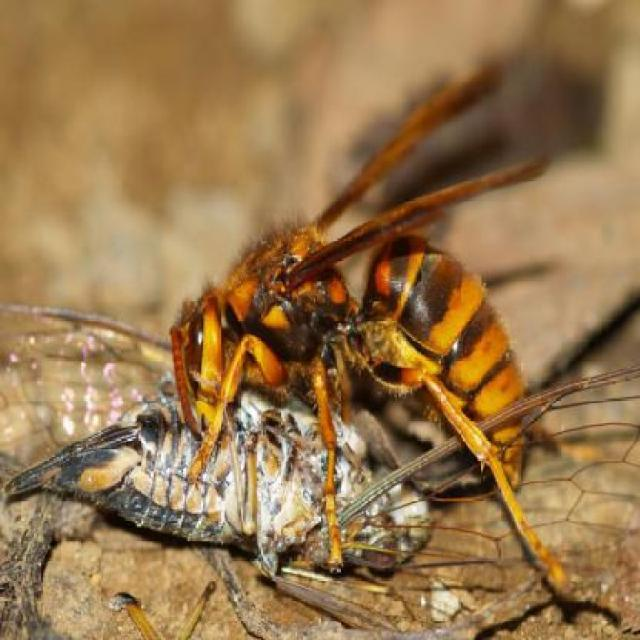Wasp: (154, 39, 602, 607)
